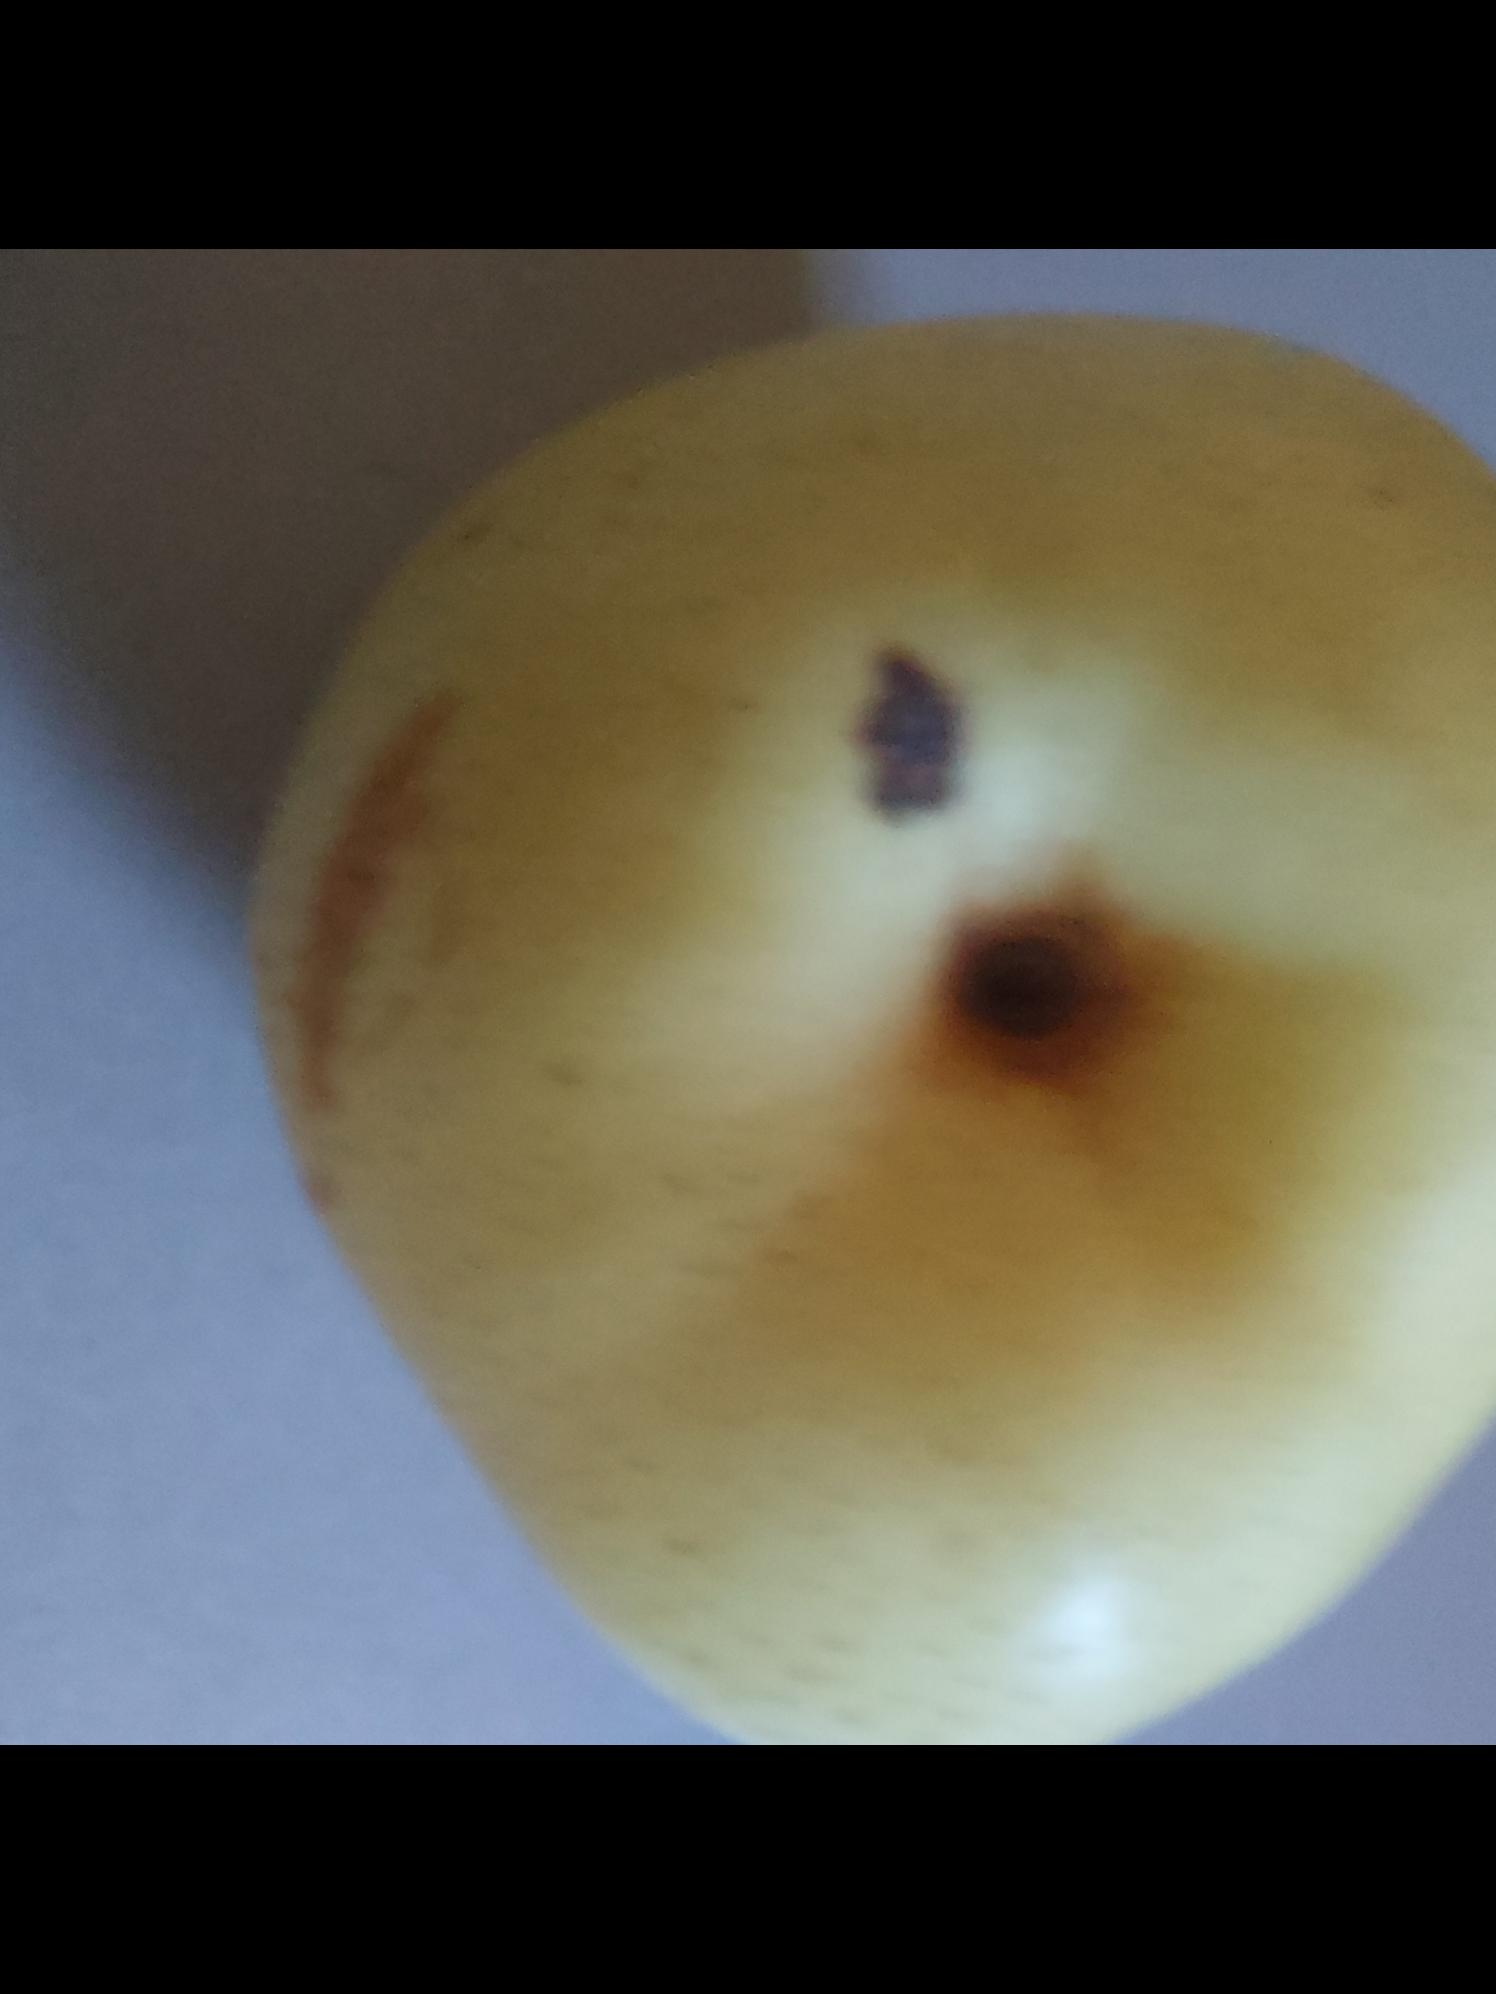Good Pear: (209, 248, 1496, 1746)
